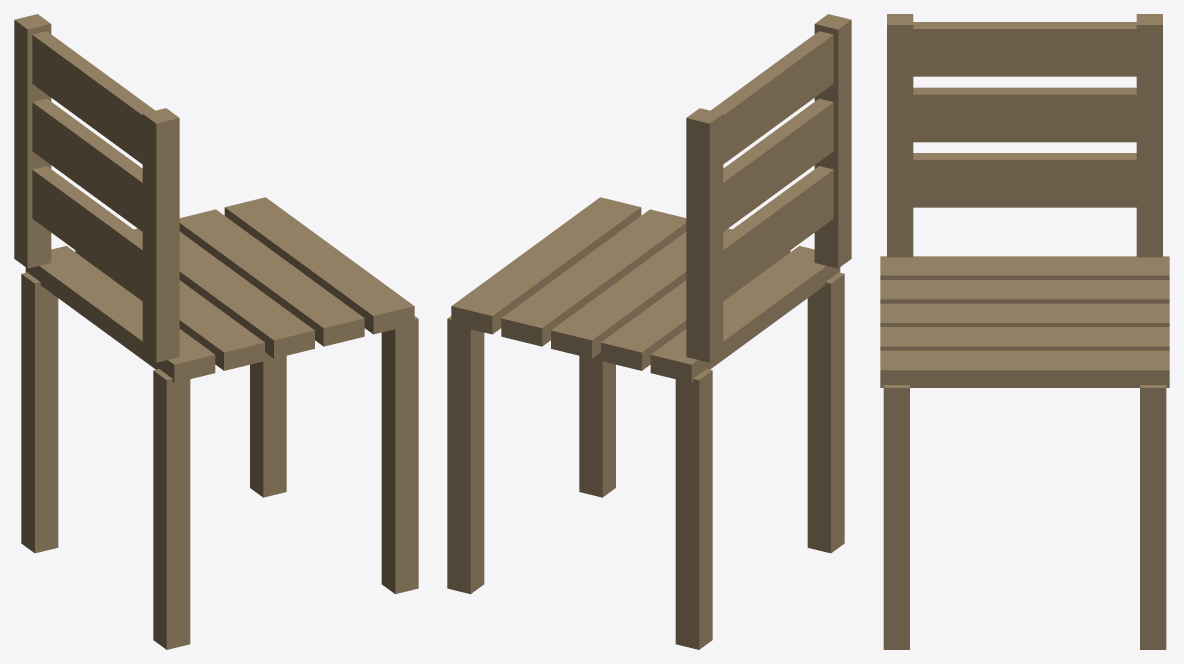
Rendered from SM_Prop_cafe_chair_1_LOD1.glb.
The picture shows the model from 3 angles, left to right: view 1: azimuth 30°, elevation 25°; view 2: azimuth 150°, elevation 25°; view 3: azimuth 270°, elevation 25°; orthographic projection. The views are drawn at different scales.
Parts seen in each view (by area): view 1: SM_Prop_cafe_chair_1_LOD1; view 2: SM_Prop_cafe_chair_1_LOD1; view 3: SM_Prop_cafe_chair_1_LOD1.
Part boxes in pixels (bbox=[...]): SM_Prop_cafe_chair_1_LOD1: bbox=[14, 14, 418, 649]; SM_Prop_cafe_chair_1_LOD1: bbox=[447, 14, 851, 649]; SM_Prop_cafe_chair_1_LOD1: bbox=[880, 14, 1169, 649].
Bounding box in the file's own units: 0.445 × 0.86 × 0.44.
